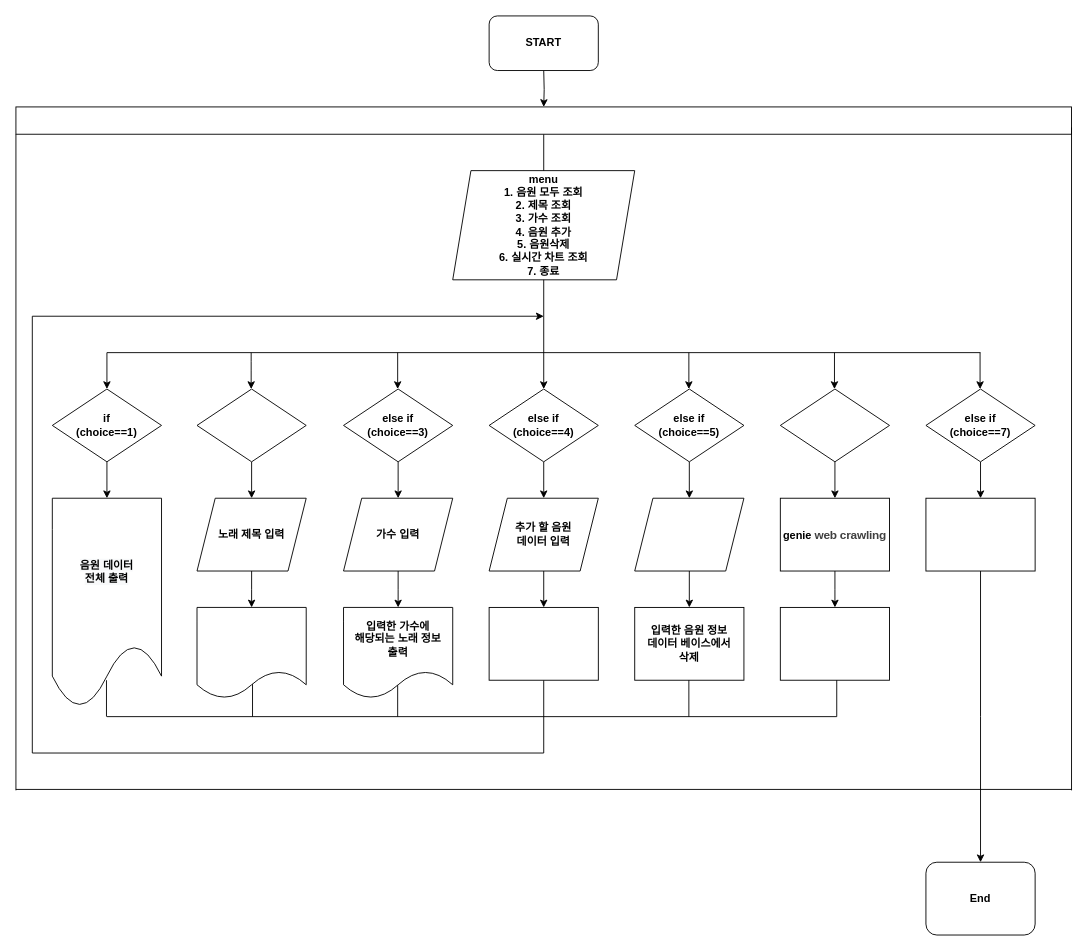
The diagram is 1088 pixels wide and 951 high, and some of its shapes have lost their labels. The shapes that lost their labels are listed below. From the top down, each one's centre as x and y in pixels, then its label:
At (543,120): "while(true)".
At (251,425): "else if (choice==2)".
At (834,425): "else if (choice==6)".
At (689,534): "삭제 할 음원 데이터 입력".
At (980,534): "break".
At (251,652): "입력한 제목에 해당되는 노래 정보 출력".
At (543,643): "입력한 음원 정보 데이터 베이스에 저장".
At (834,643): "genie 실시간 차트 출력".
